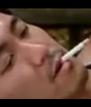Cigarette: (60, 38, 88, 62)
